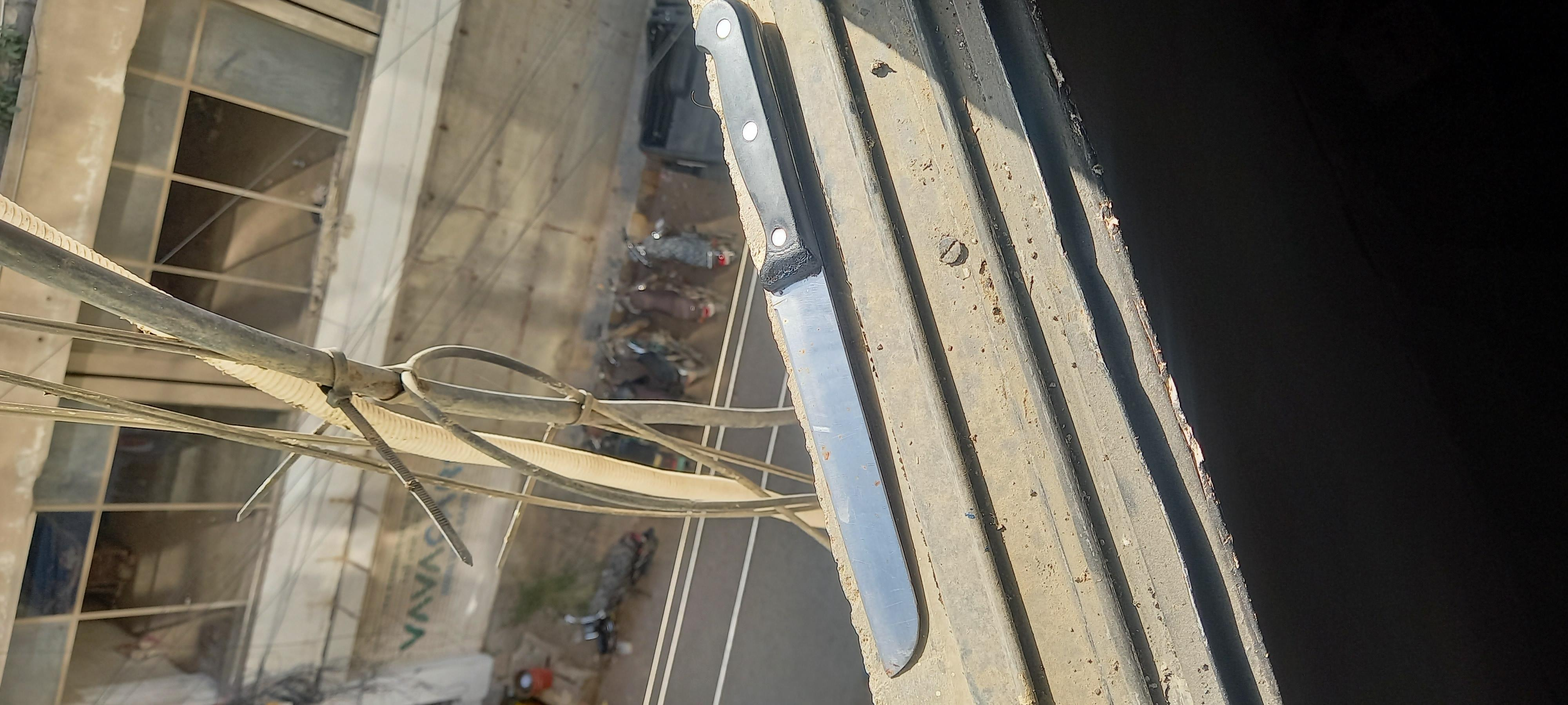knives: (67, 316, 1568, 422)
